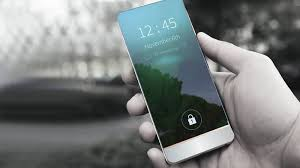vsmart: (109, 1, 236, 162)
